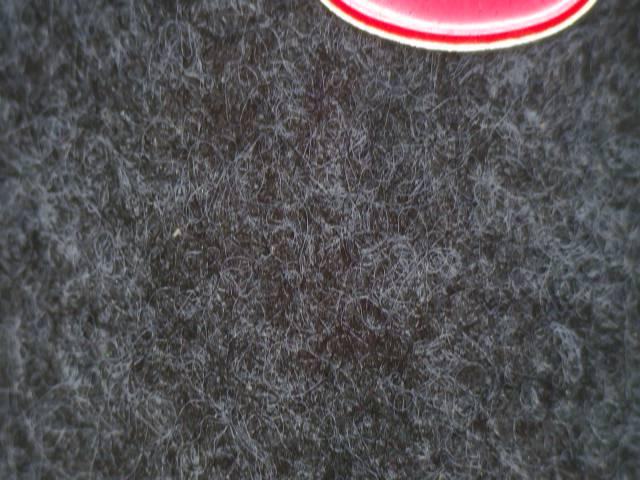Red-Hat: (298, 0, 616, 84)
